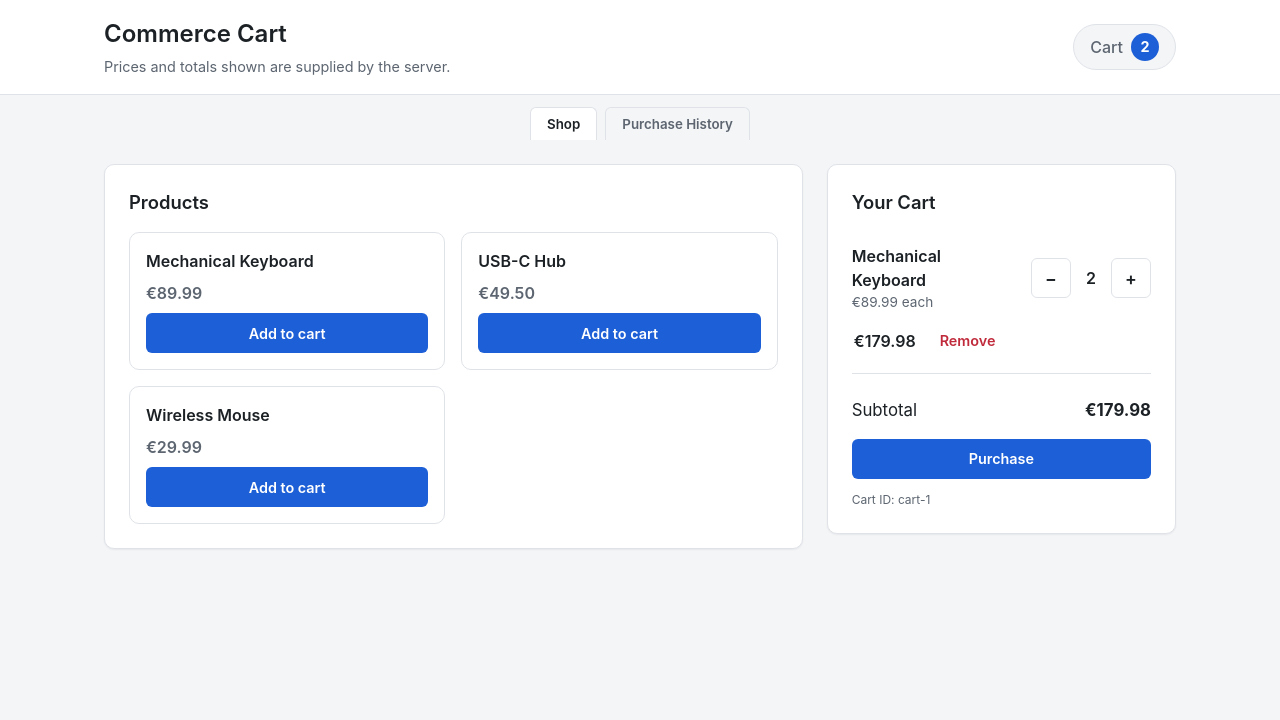
Test case: Commerce Cart application › decrements item quantity
Click the button "−": (1051, 278) [1031,258,1071,298]
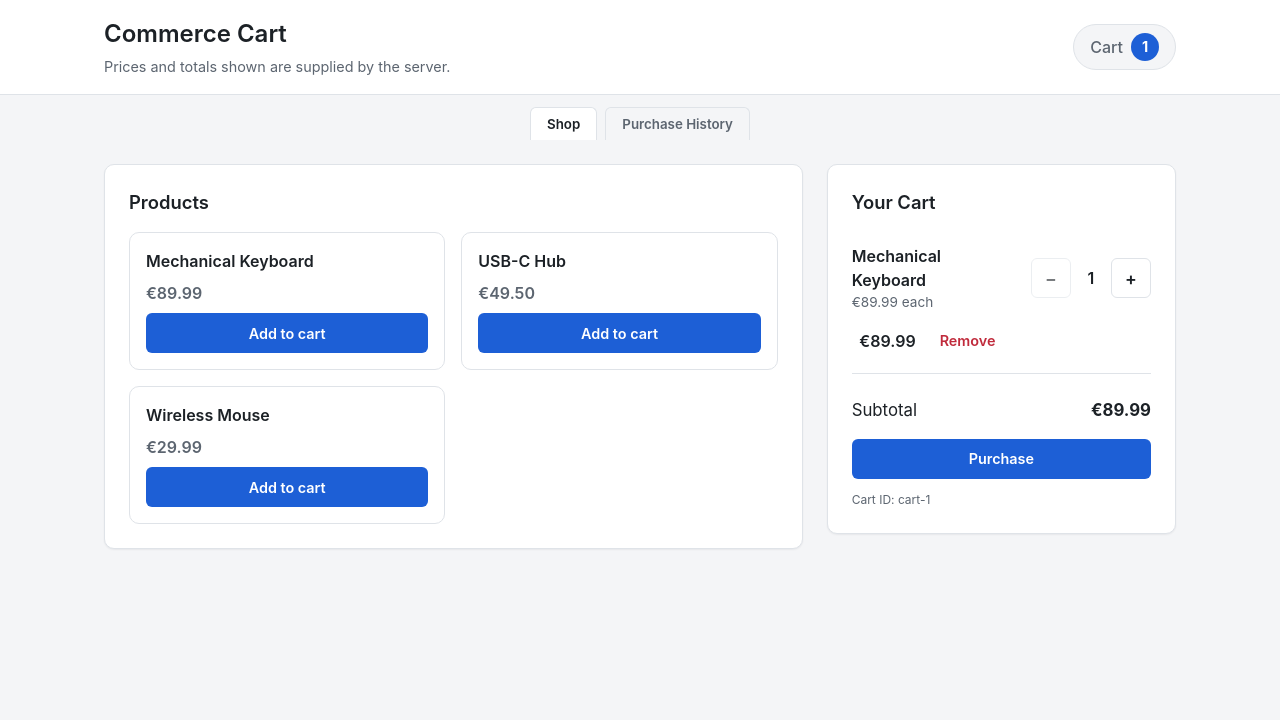
Result: the text "1" below "Your Cart" is shown at [1088,268,1094,288]
